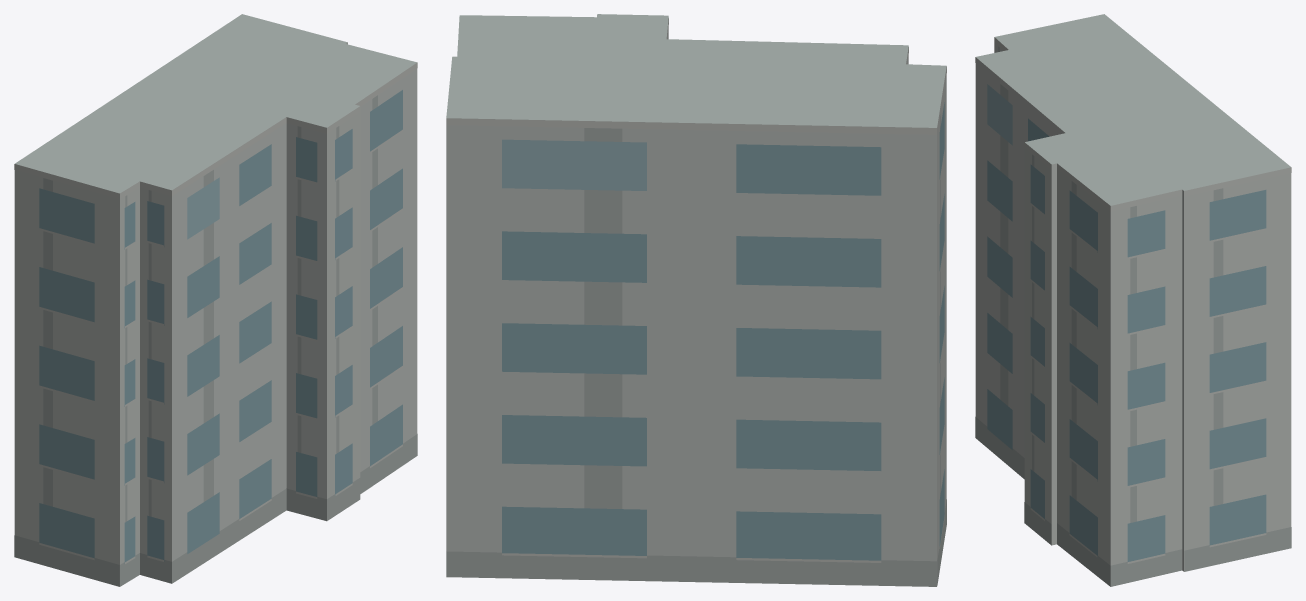
Rendered from survey-upis-32601154.glb.
3 renders of one model, left to right at view 1: azimuth 30°, elevation 25°; view 2: azimuth 150°, elevation 25°; view 3: azimuth 270°, elevation 25°, orthographic. The views are drawn at different scales.
Visible parts, largest first — view 1: survey-upis-32601154.tmp; view 2: survey-upis-32601154.tmp; view 3: survey-upis-32601154.tmp.
Part boxes in pixels (x1,y1,x2,y2): survey-upis-32601154.tmp: [14, 14, 417, 586]; survey-upis-32601154.tmp: [446, 14, 946, 586]; survey-upis-32601154.tmp: [975, 14, 1291, 586].
Size of the model in its own units: 17.19 by 15.9 by 11.96.
